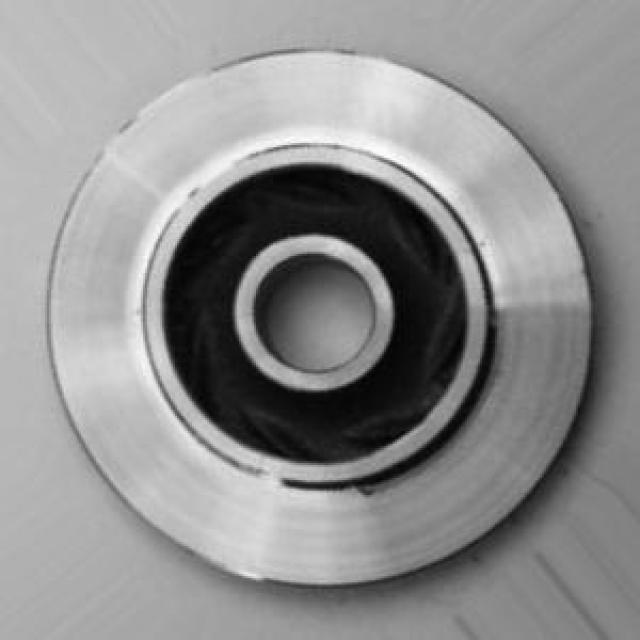Defect: (351, 478, 391, 508)
